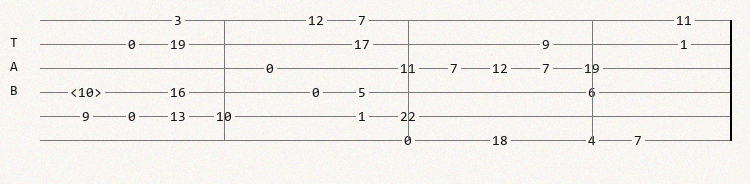0: (128, 38, 140, 51), (128, 110, 140, 123), (266, 62, 278, 75), (312, 86, 324, 99), (404, 134, 416, 147)
1: (358, 110, 370, 123), (680, 38, 692, 51)
10: (216, 110, 236, 123)
11: (400, 62, 420, 75), (676, 14, 696, 27)
12: (308, 14, 328, 27), (492, 62, 512, 75)
13: (170, 110, 190, 123)
16: (170, 86, 190, 99)
17: (354, 38, 374, 51)
18: (492, 134, 512, 147)
19: (170, 38, 190, 51), (584, 62, 604, 75)
22: (400, 110, 420, 123)
3: (174, 14, 186, 27)
4: (588, 134, 600, 147)
5: (358, 86, 370, 99)
6: (588, 86, 600, 99)
7: (358, 14, 370, 27), (450, 62, 462, 75), (542, 62, 554, 75), (634, 134, 646, 147)
9: (82, 110, 94, 123), (542, 38, 554, 51)
harmonic: (70, 86, 106, 99)
